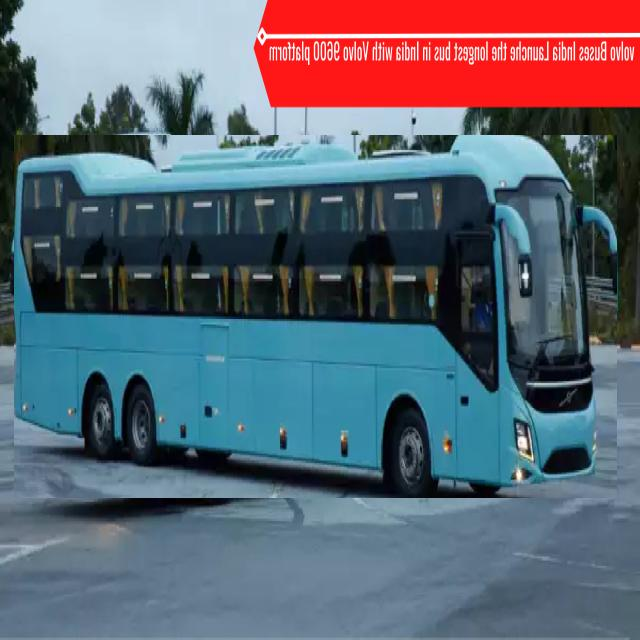bus: (14, 135, 616, 498)
